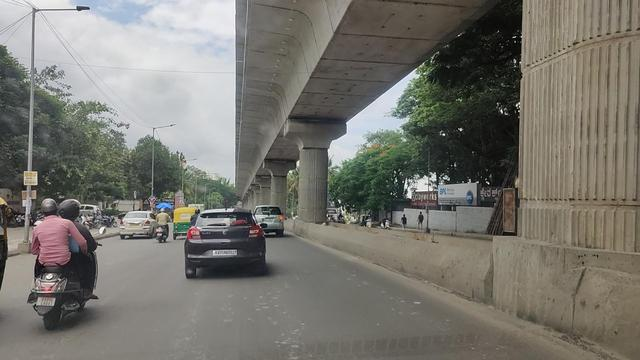LMV: (24, 193, 96, 339), (184, 206, 271, 282), (153, 205, 168, 239)
